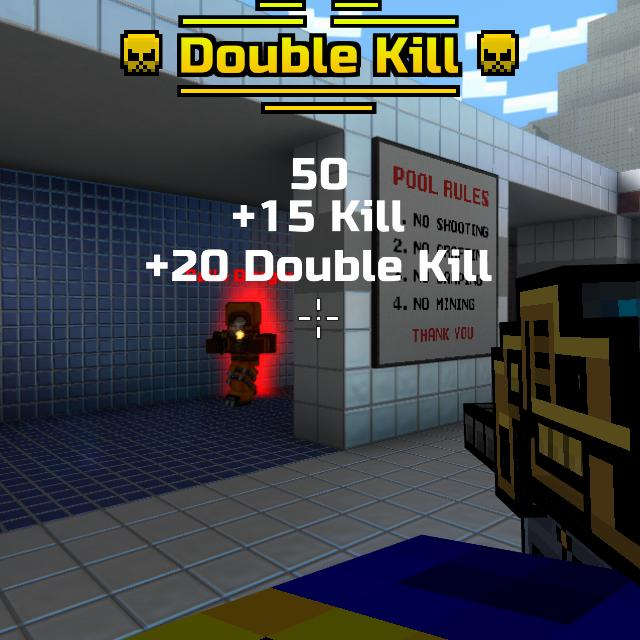Enemy: (204, 302, 274, 405)
